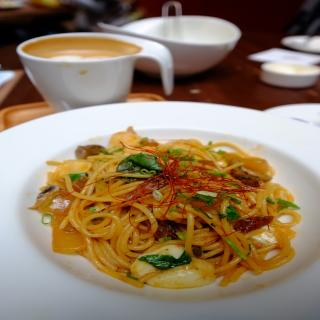Pasta: (38, 124, 304, 295)
